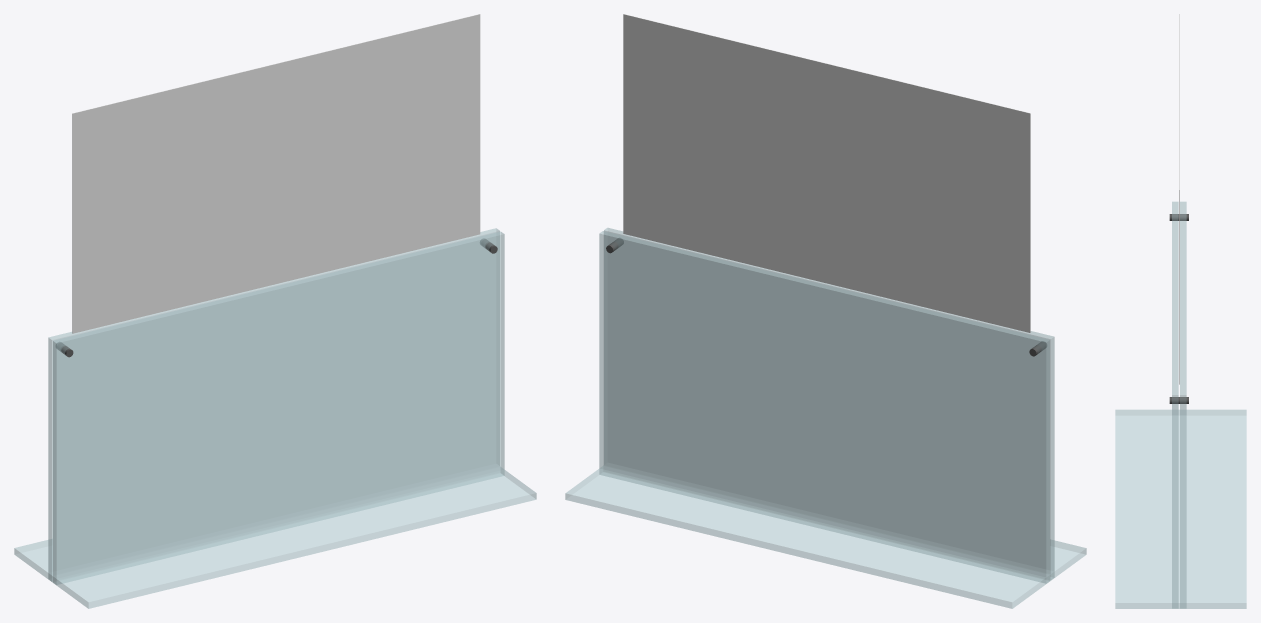
3 renders of one model, left to right at view 1: azimuth 30°, elevation 25°; view 2: azimuth 150°, elevation 25°; view 3: azimuth 270°, elevation 25°, orthographic. The views are drawn at different scales.
Parts seen in each view (by area): view 1: pCube14, pCube12; view 2: pCube14, pCube12; view 3: pCube14, pCube12.
Boxes of the visible parts, <box> form: pCube14: <box>14,228,536,608</box>; pCube12: <box>72,14,480,333</box>; pCube14: <box>565,228,1086,608</box>; pCube12: <box>623,14,1030,332</box>; pCube14: <box>1115,201,1246,608</box>; pCube12: <box>1179,14,1179,384</box>.
Size of the model in its own units: 15.56 by 15.39 by 4.46.
